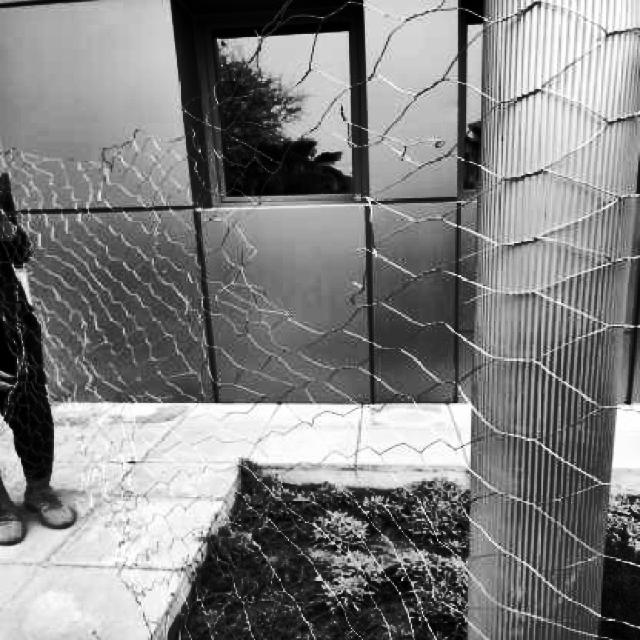anomaly-fence: (0, 12, 310, 640)
